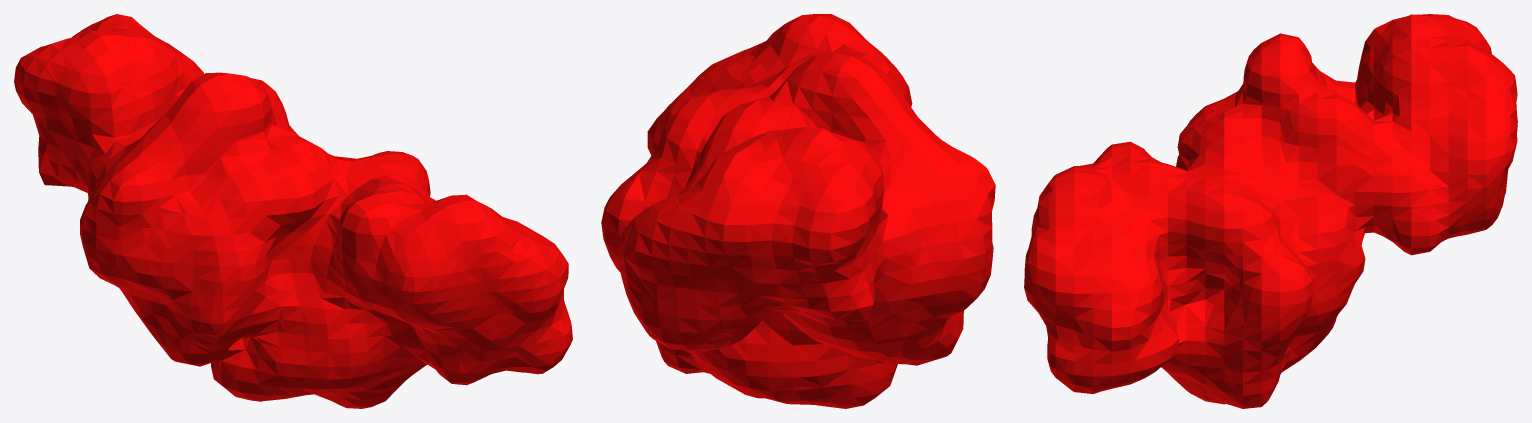
File: panC_coarse.dae
3 renders of one model, left to right at view 1: azimuth 30°, elevation 25°; view 2: azimuth 150°, elevation 25°; view 3: azimuth 270°, elevation 25°, orthographic. The views are drawn at different scales.
Visible parts, largest first — view 1: panC; view 2: panC; view 3: panC.
Part boxes in pixels (x1=…): panC: x1=14, y1=14, x2=572, y2=408; panC: x1=601, y1=14, x2=995, y2=408; panC: x1=1024, y1=14, x2=1517, y2=408.
Size of the model in its own units: 76.46 by 63.27 by 90.69.
